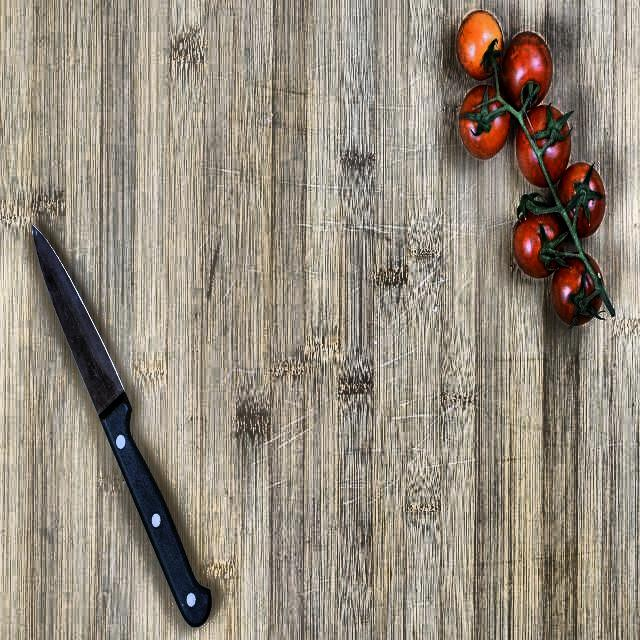knife: (32, 217, 214, 619)
